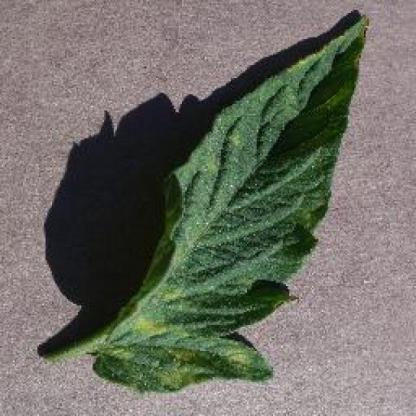Tomato_Leaf_Mold: (96, 14, 371, 384)
